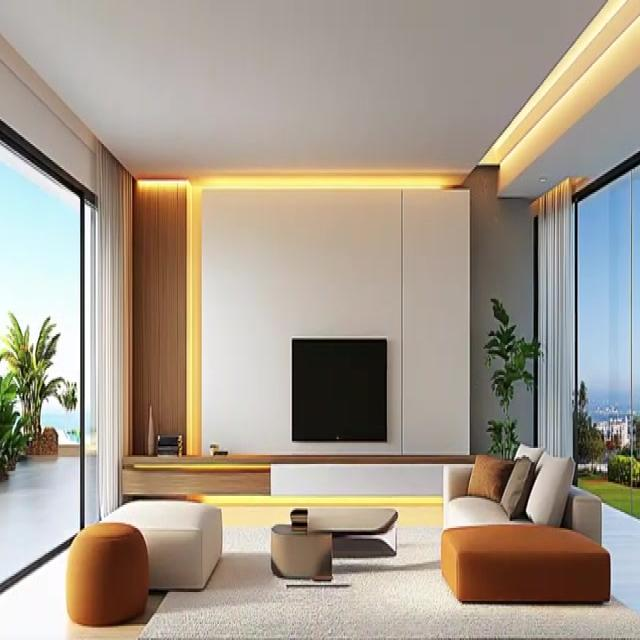obstacle: (440, 444, 610, 604), (270, 504, 397, 580)
